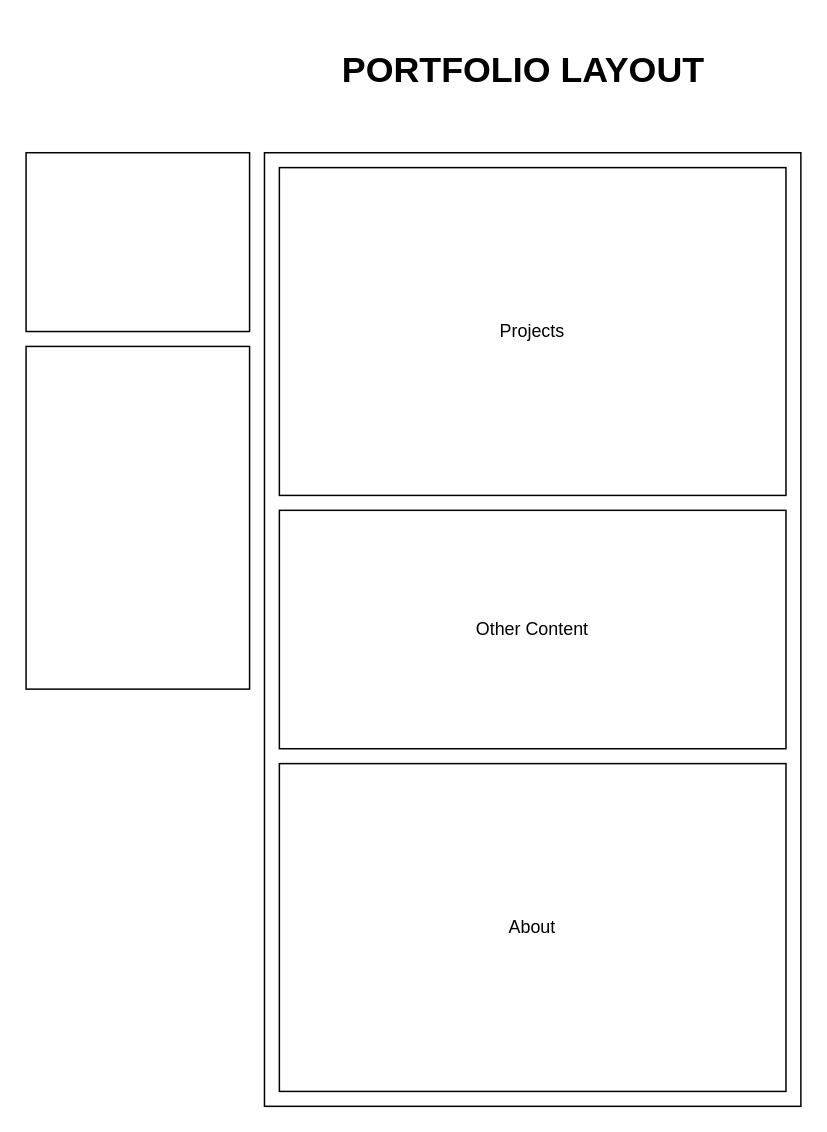
This 827x1132 diagram has some shape labels left out. Each missing label, with the box of its shape:
Hero: (25, 151, 250, 332)
SideBar: (25, 345, 250, 689)
